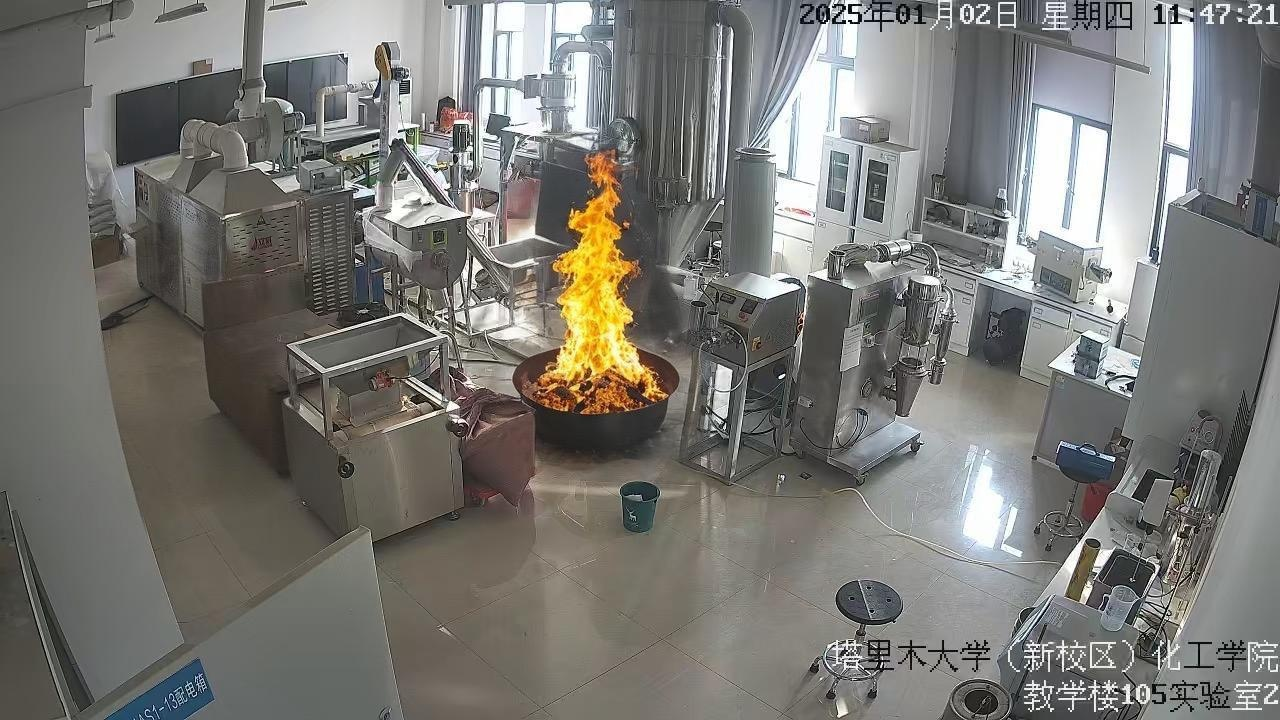fire: (534, 159, 687, 428)
